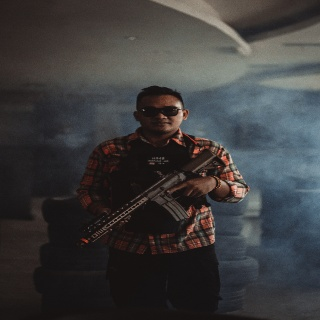rifle: (75, 148, 220, 250)
